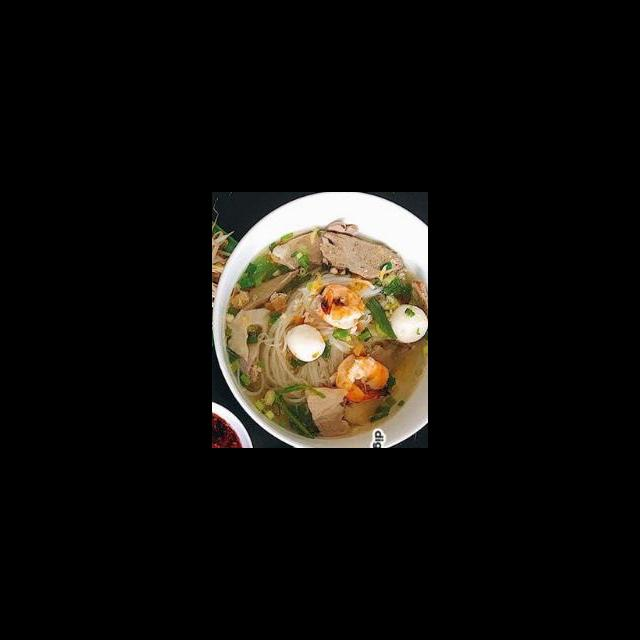gan: (317, 225, 411, 281)
hu tieu: (253, 268, 388, 407)
thit heo: (268, 218, 360, 276), (224, 305, 273, 384), (300, 381, 359, 440)
tom: (333, 350, 396, 406), (308, 281, 367, 331)
trung: (384, 301, 428, 344), (283, 323, 329, 364)
